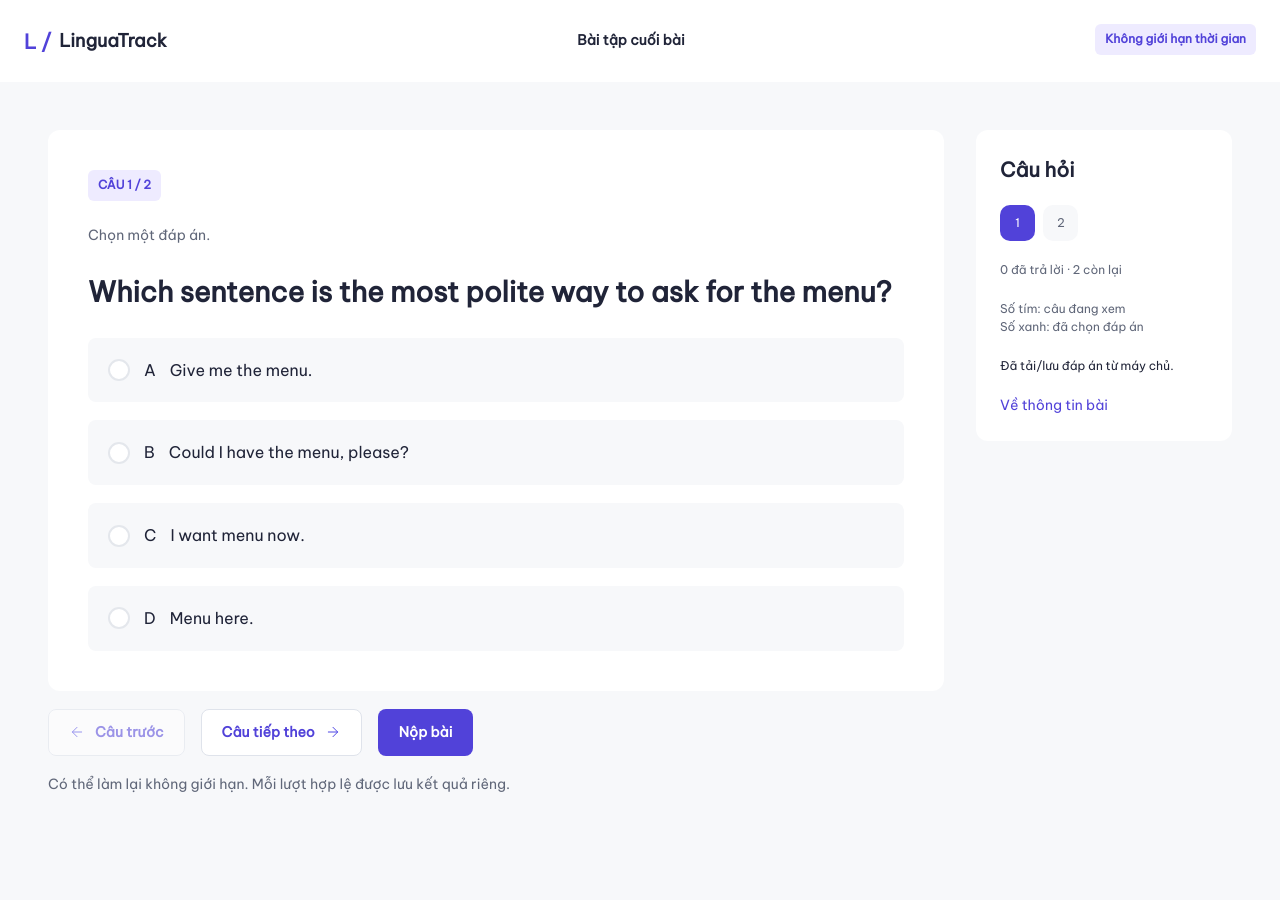
Test case: keeps a save failure visible after a status check until answers are acknowledged
Click the radio button labelled "B Could I have the menu, please?" at (289, 452), box [88, 420, 904, 485]
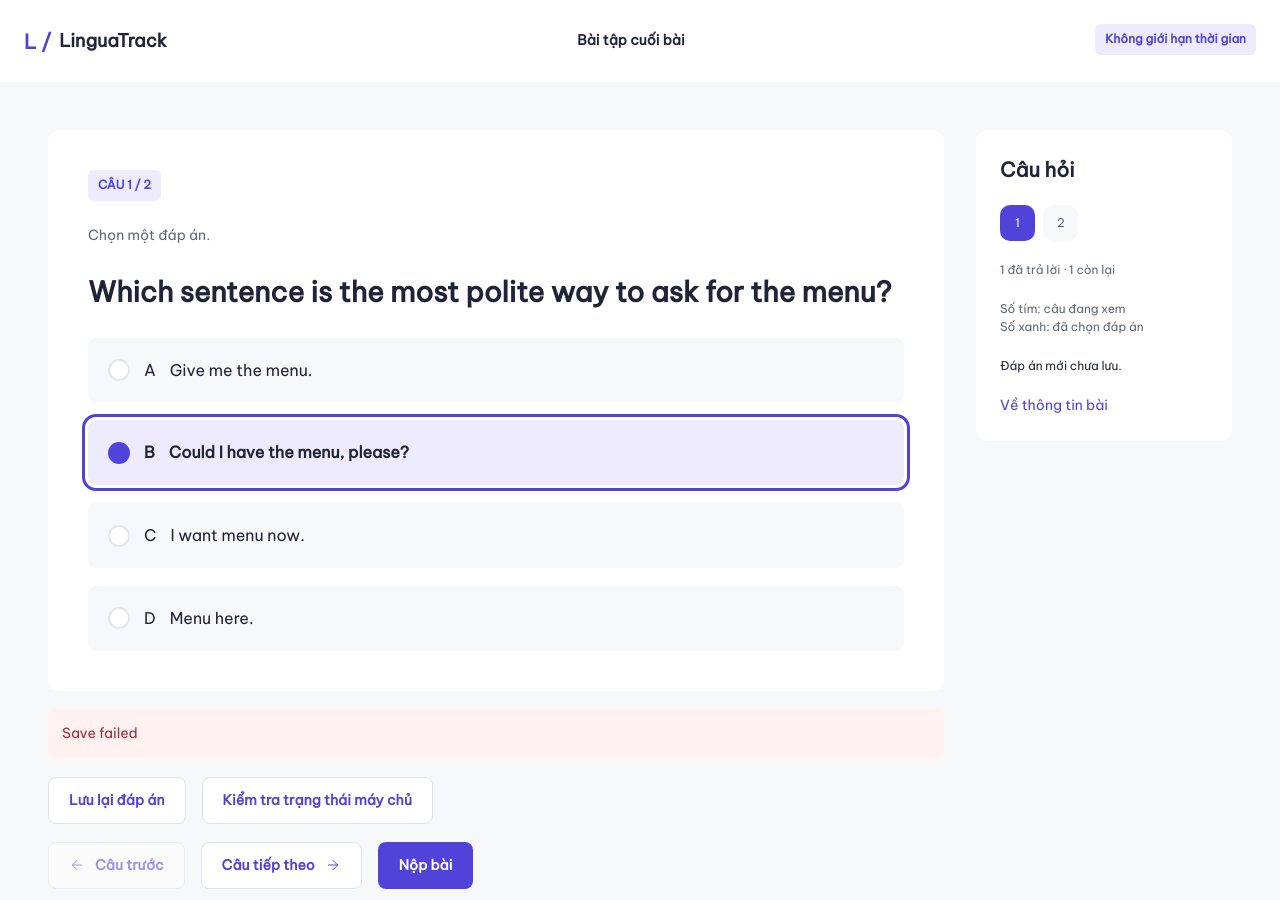
expect the text "Save failed" is shown: met, box [62, 724, 138, 742]
Click the button "Kiểm tra trạng thái máy chủ" at (317, 800), box [202, 776, 433, 824]
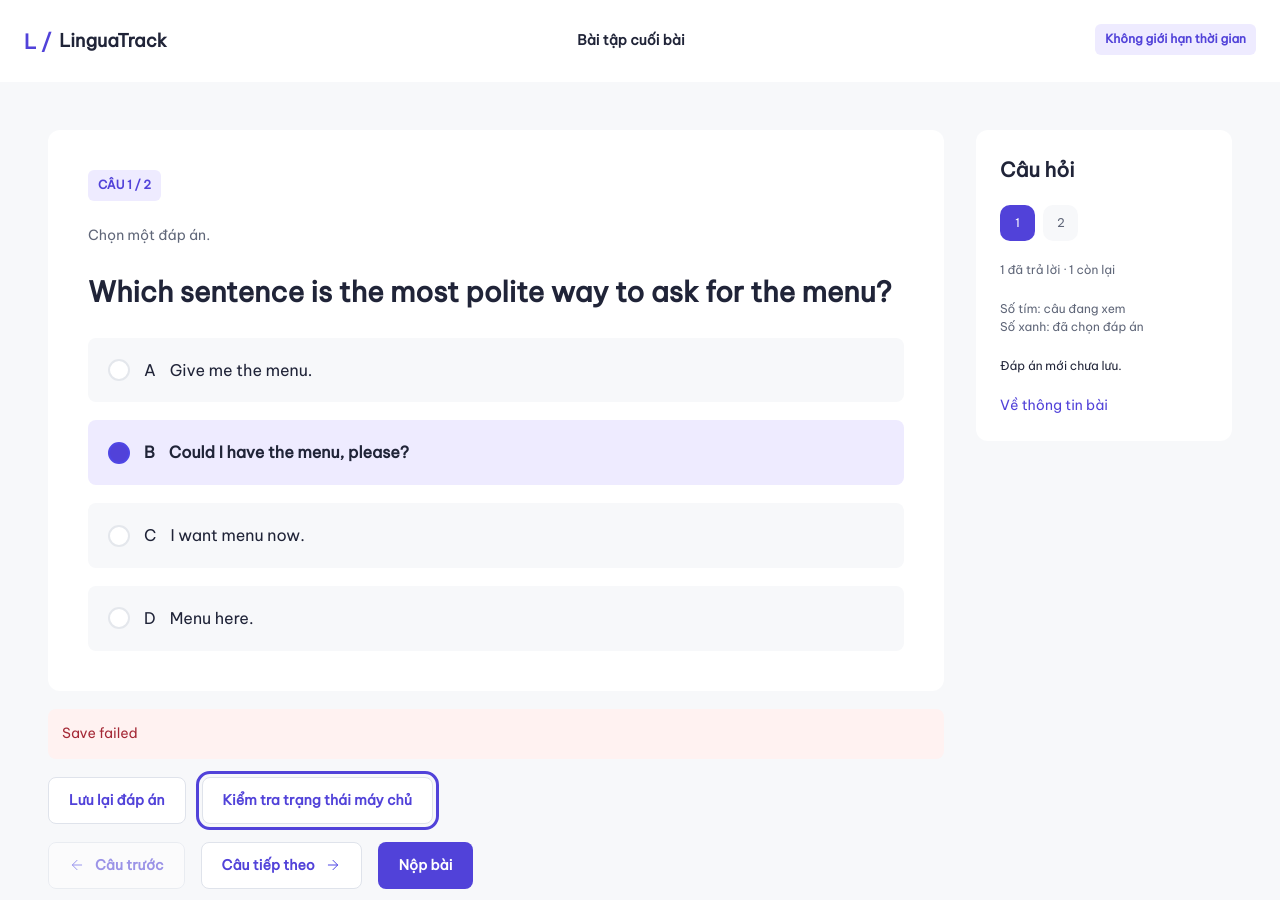
expect the text "Đáp án mới chưa lưu." is shown: met, box [1000, 358, 1122, 373]
Click the button "Lưu lại đáp án" at (117, 800), box [48, 776, 186, 824]
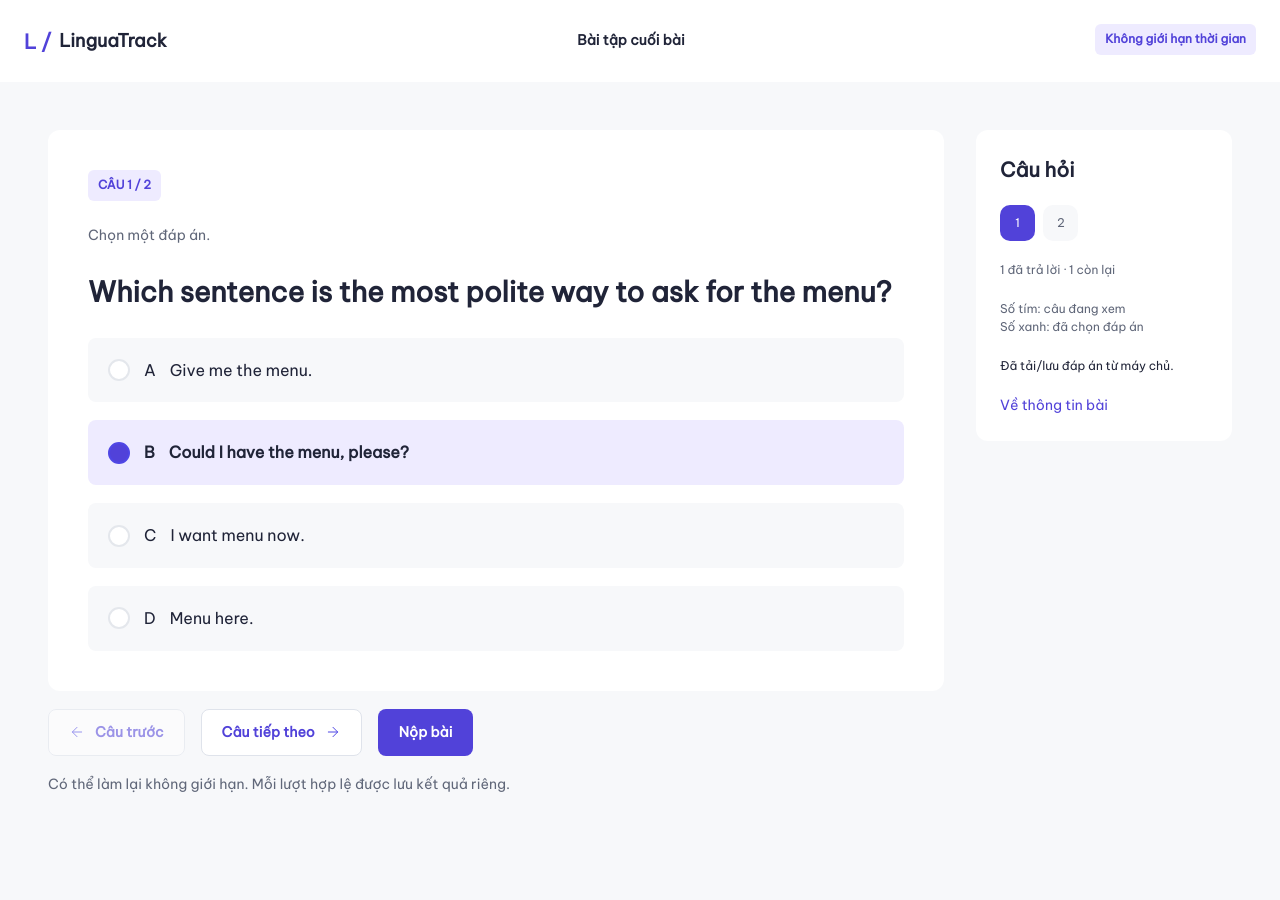
expect the text "Đã tải/lưu đáp án từ máy chủ." is shown: met, box [1000, 358, 1174, 373]
